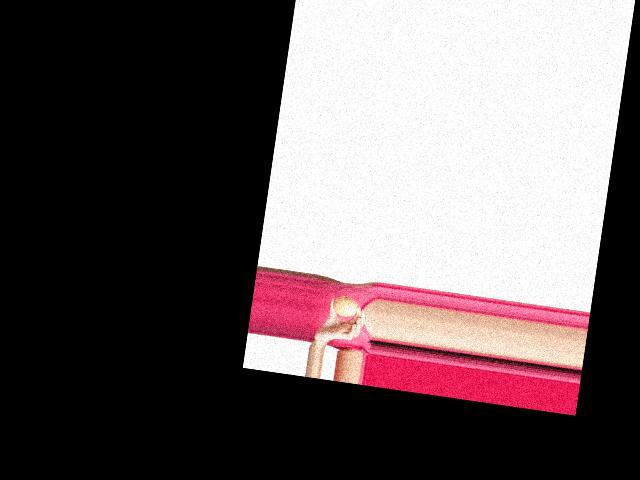egg: (331, 295, 359, 318)
